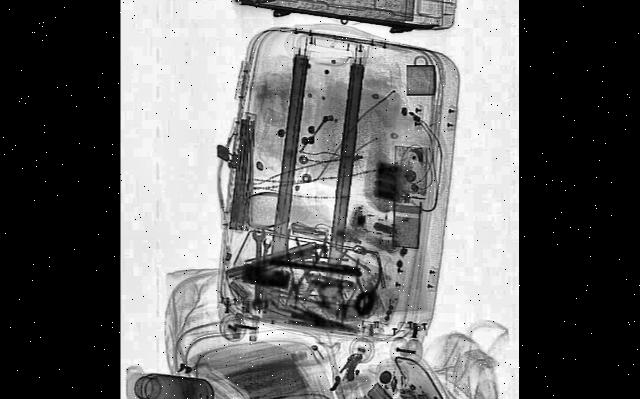Pliers: (274, 213, 329, 320), (356, 252, 381, 317)
Wrench: (255, 234, 272, 302), (253, 226, 266, 309)
